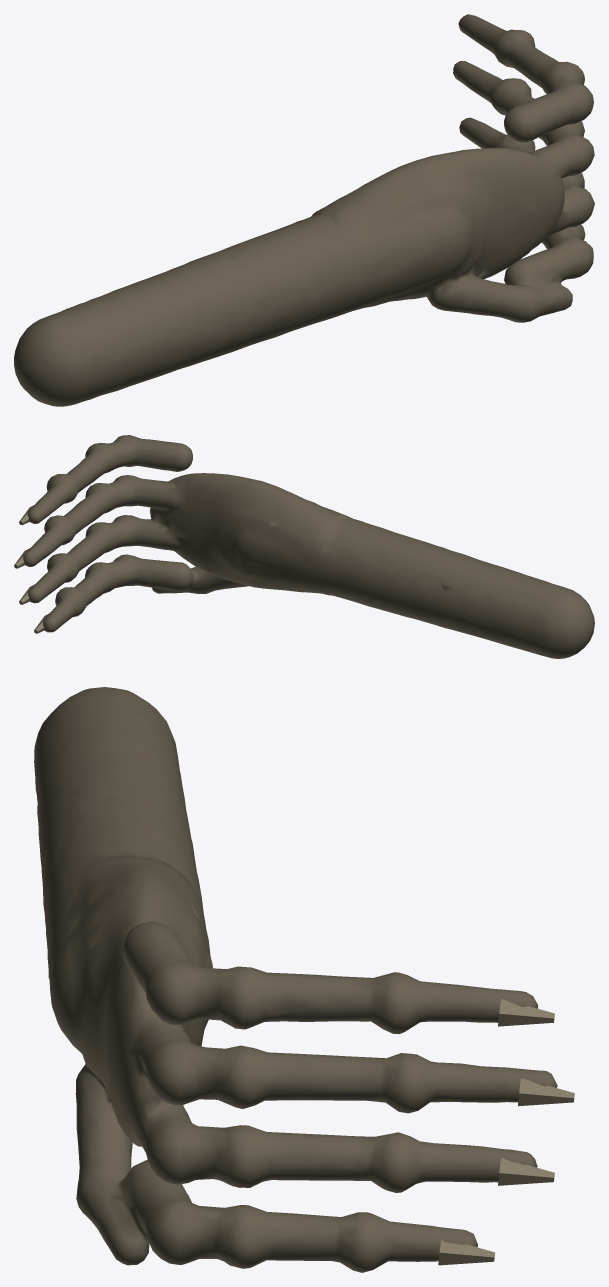
The model's file is wa_hand.glb.
3 renders of one model, top to bottom at view 1: azimuth 30°, elevation 25°; view 2: azimuth 150°, elevation 25°; view 3: azimuth 270°, elevation 25°, orthographic. The views are drawn at different scales.
Visible parts, largest first — view 1: hand; view 2: hand, teil0; view 3: hand, teil0.
Boxes of the visible parts, x1,y1,x2,y2 form: hand: (14,14,594,406); hand: (23,435,594,658); teil0: (14,505,48,633); hand: (34,687,557,1272); teil0: (438,999,574,1265).
Bounding box in the file's own units: 0.3951 × 0.1301 × 0.1969.
